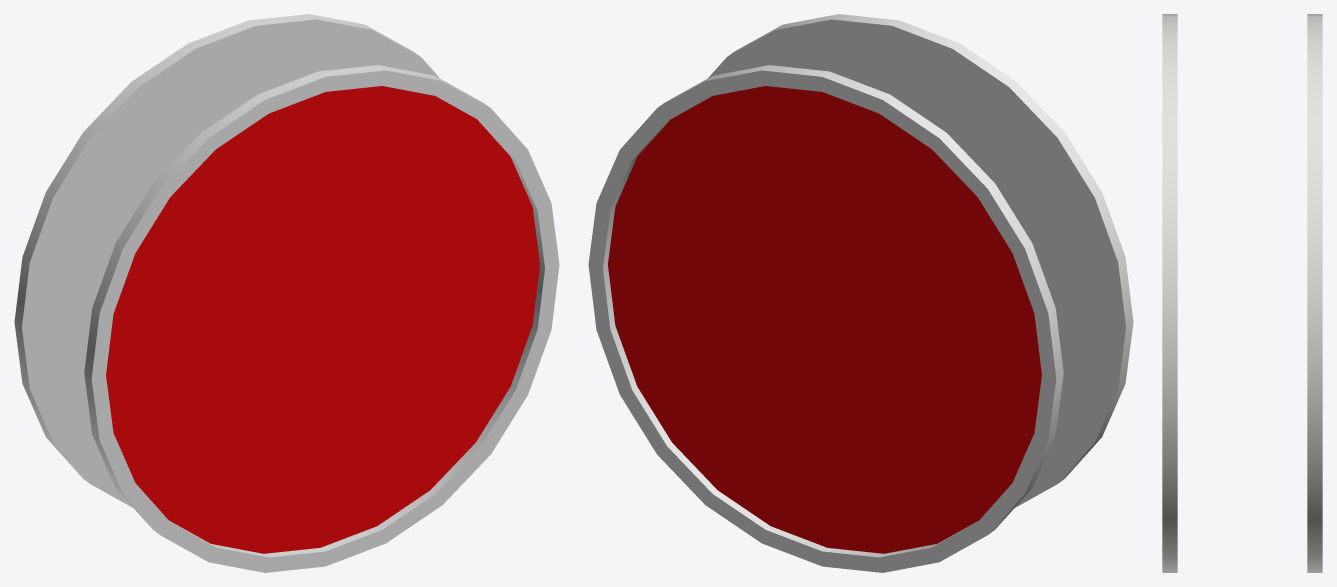
The model's file is SM_KitchenDoorWindow.fbx.
The picture shows the model from 3 angles, left to right: view 1: azimuth 30°, elevation 25°; view 2: azimuth 150°, elevation 25°; view 3: azimuth 270°, elevation 25°; orthographic projection. The views are drawn at different scales.
Parts seen in each view (by area): view 1: SM_KitchenDoorWindow; view 2: SM_KitchenDoorWindow; view 3: SM_KitchenDoorWindow.
Boxes of the visible parts, x1,y1,x2,y2 form: SM_KitchenDoorWindow: (14,14,559,572); SM_KitchenDoorWindow: (588,14,1133,572); SM_KitchenDoorWindow: (1162,14,1322,572).
Size of the model in its own units: 33.39 by 33.39 by 9.53.
